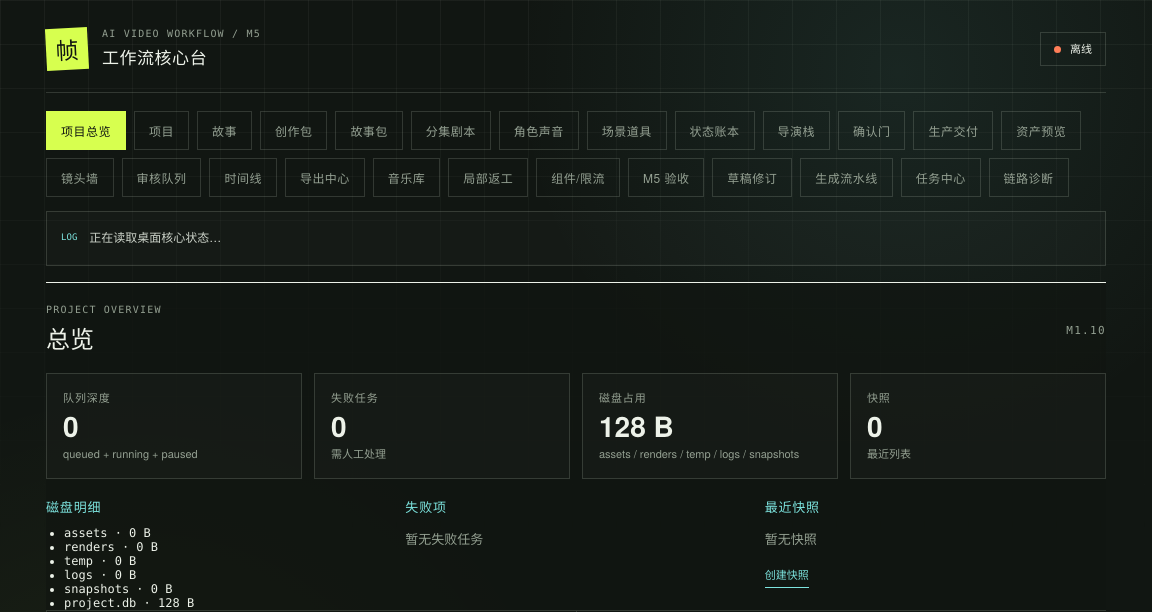
Test: M1 shell › registers and locks a default creative pack composition
The image size is (1152, 612).
Click the button "创作包" at (294, 130), box [260,111,327,150]
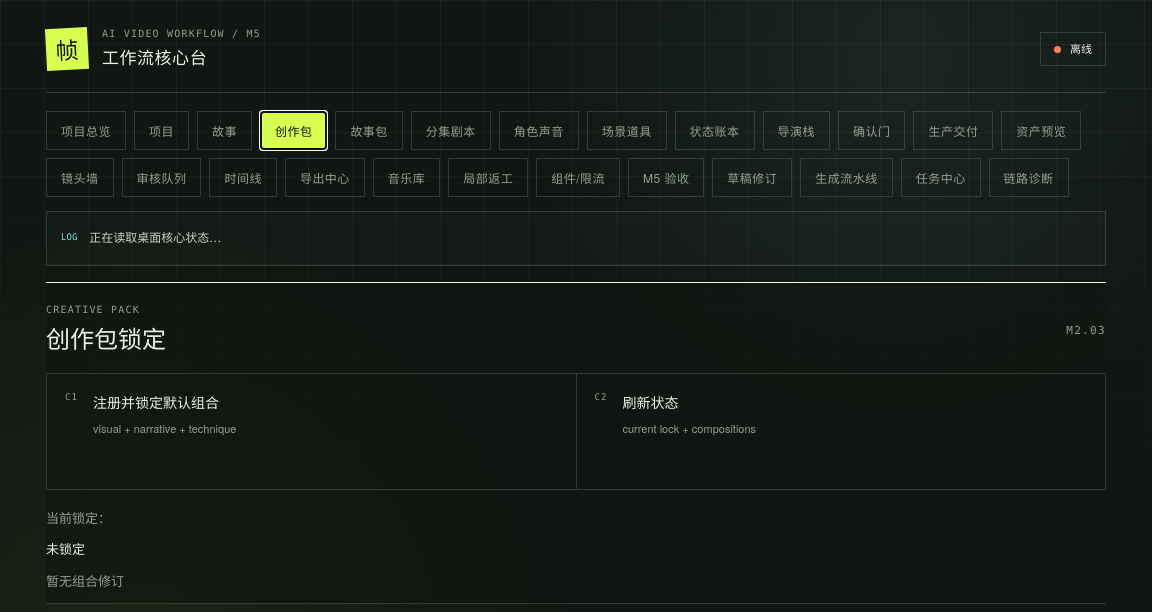
Click the button "注册并锁定默认组合" at (156, 402), box [47,374,576,490]
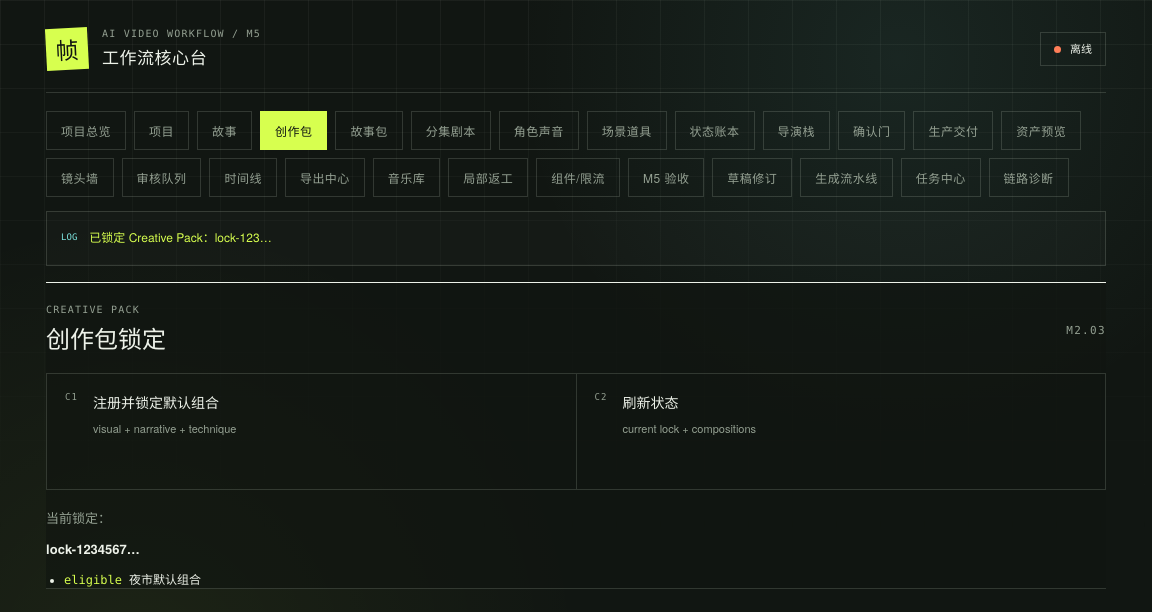
Now the text "已锁定 Creative Pack：lock-123…" is shown, box [89,229,272,248]
Now the list named "创作包组合列表" shows "夜市默认组合", box [129,573,201,587]
